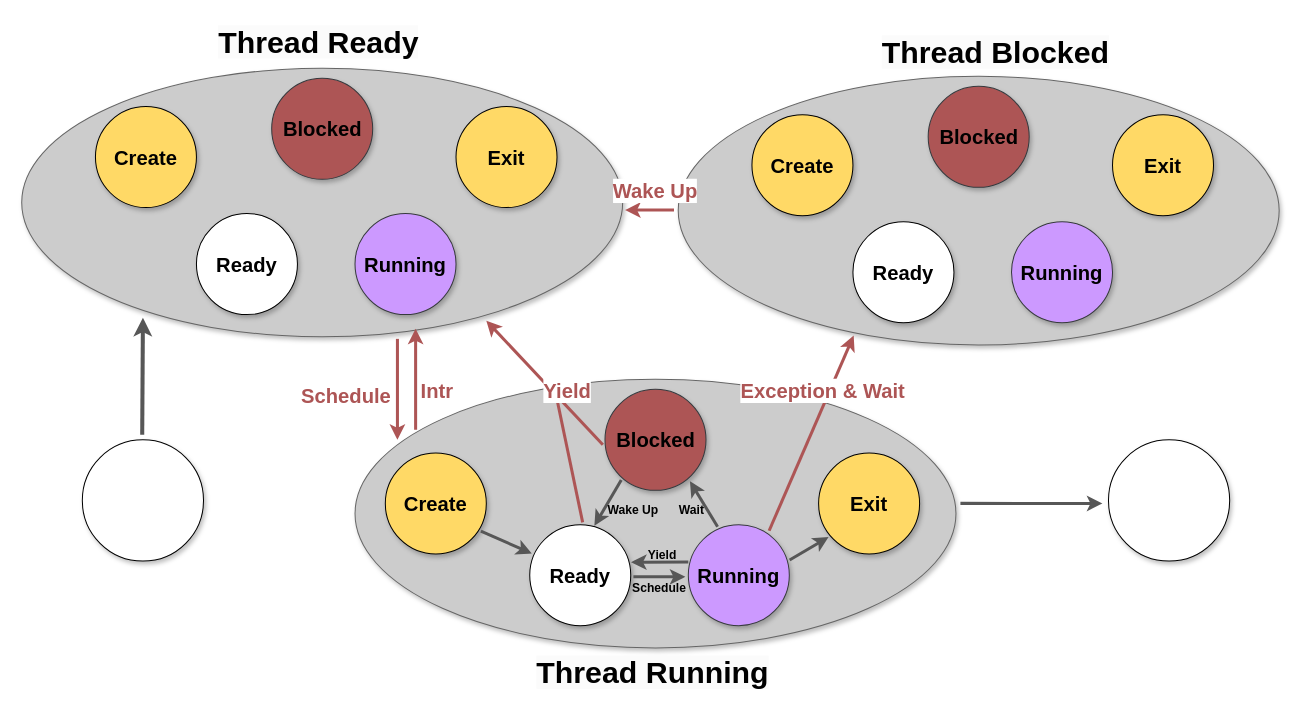
This 1303x708 diagram has some shape labels left out. Here are the shapes that lost their labels. From the top down, the centre of each, then its label:
point (143, 501): Thread Create
point (1169, 501): Thread Exit
